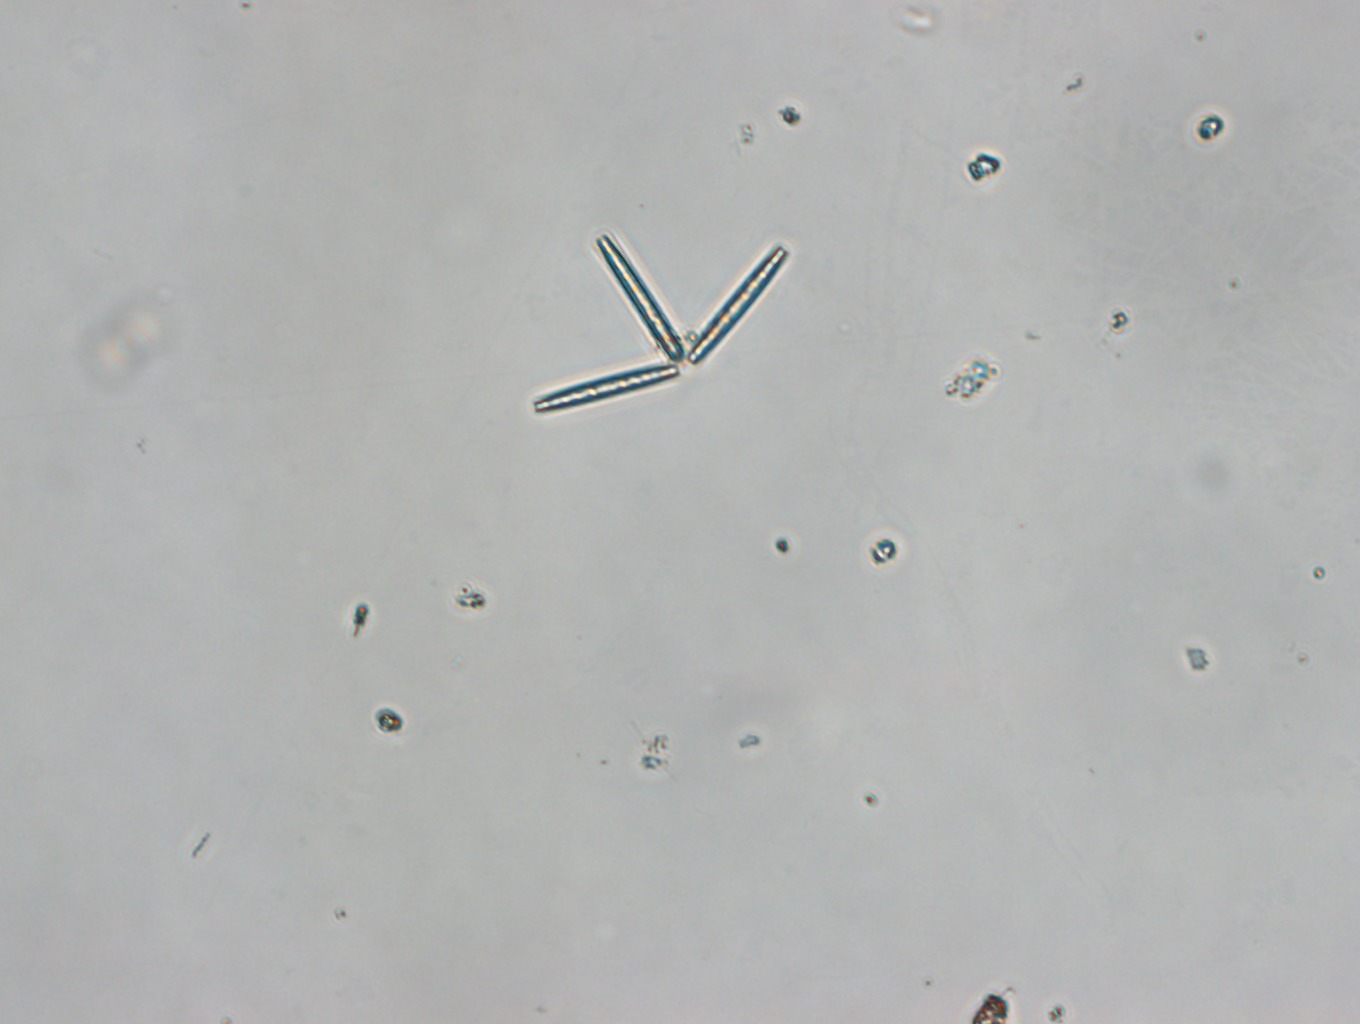thalassionema frauenfeldii: (527, 228, 797, 419)
